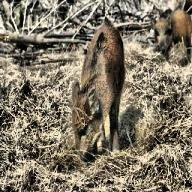boar: (70, 16, 125, 162)
